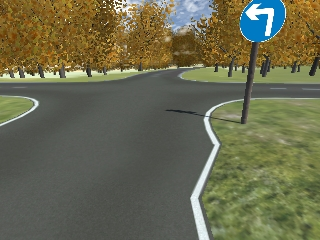left: (239, 1, 286, 42)
